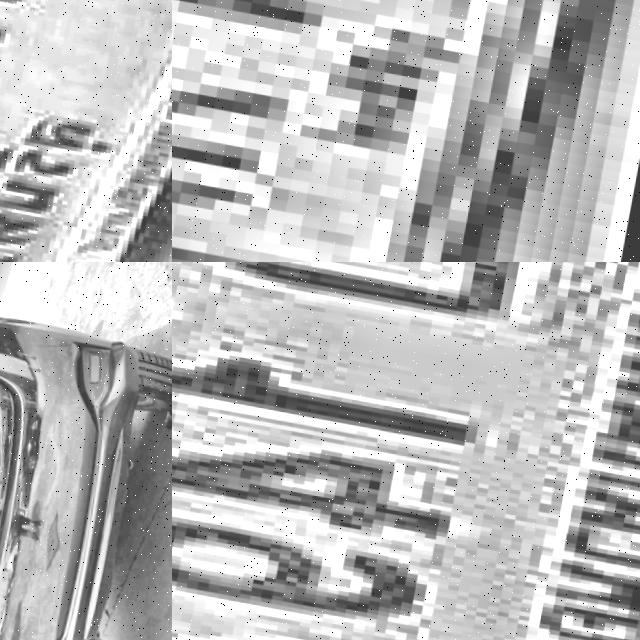license-plate: (172, 262, 640, 640), (172, 0, 573, 262), (0, 0, 172, 262)
